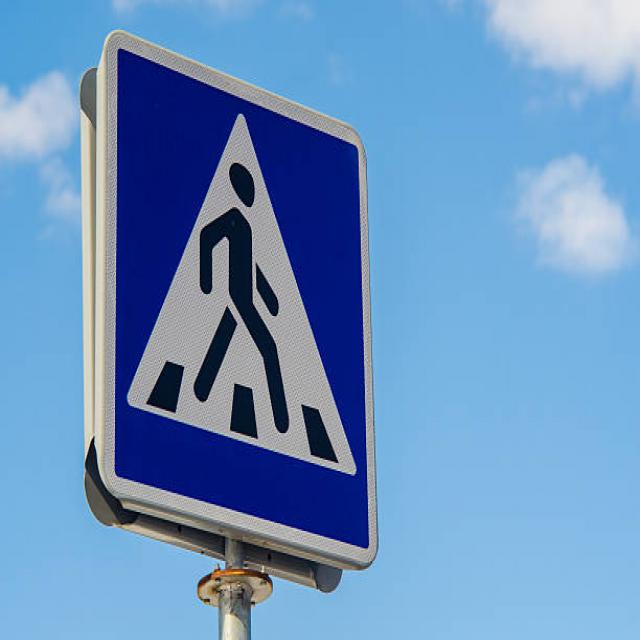crosswalk: (96, 14, 387, 572)
